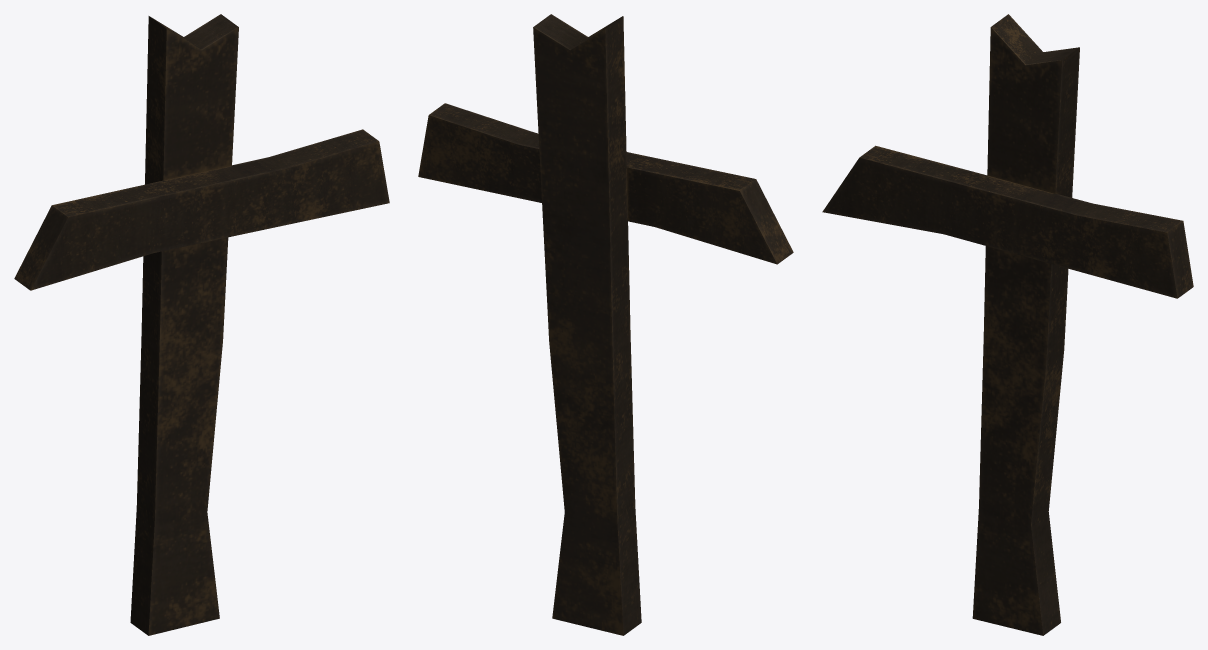
File: cross_03.fbx
The picture shows the model from 3 angles, left to right: view 1: azimuth 30°, elevation 25°; view 2: azimuth 150°, elevation 25°; view 3: azimuth 330°, elevation 25°; orthographic projection.
Visible parts, largest first — view 1: cross_03; view 2: cross_03; view 3: cross_03.
Part boxes in pixels (<box>): cross_03: <box>14,14,389,635</box>; cross_03: <box>418,14,793,635</box>; cross_03: <box>822,14,1193,635</box>.
Bounding box in the file's own units: 0.1299 × 0.2082 × 0.022.
1 material, 1 textured.
